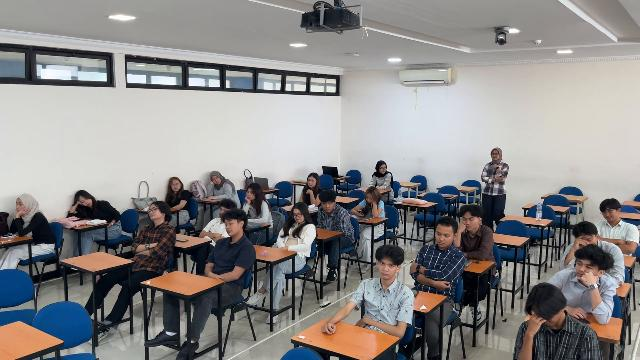bosan: (575, 259, 597, 282), (379, 259, 395, 279), (435, 227, 451, 247), (224, 219, 240, 235), (576, 234, 597, 246), (463, 213, 476, 229), (148, 204, 161, 219), (601, 209, 616, 222), (79, 194, 92, 207), (293, 208, 304, 223), (322, 201, 334, 213), (307, 176, 317, 188), (16, 198, 24, 212), (246, 188, 255, 200), (172, 180, 181, 191), (212, 176, 221, 184), (366, 194, 373, 204)
